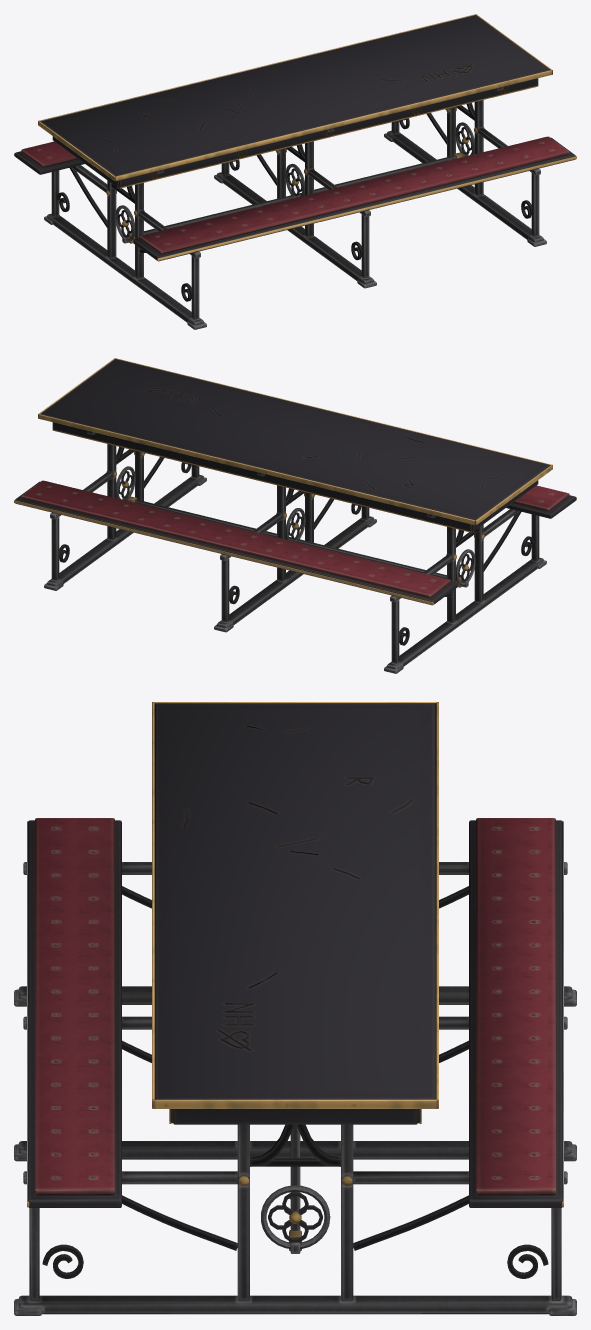
Rendered from CafeteriaTable.fbx.
3 views of the same model, one above another, from view 1: azimuth 30°, elevation 25°; view 2: azimuth 150°, elevation 25°; view 3: azimuth 270°, elevation 25° (orthographic). The views are drawn at different scales.
Visible parts, largest first — view 1: CafeteriaTable; view 2: CafeteriaTable; view 3: CafeteriaTable.
Boxes of the visible parts, x1,y1,x2,y2 form: CafeteriaTable: (14, 14, 576, 329); CafeteriaTable: (14, 358, 576, 673); CafeteriaTable: (14, 702, 576, 1315).
Bounding box in the file's own units: 1006 × 301 × 600.
